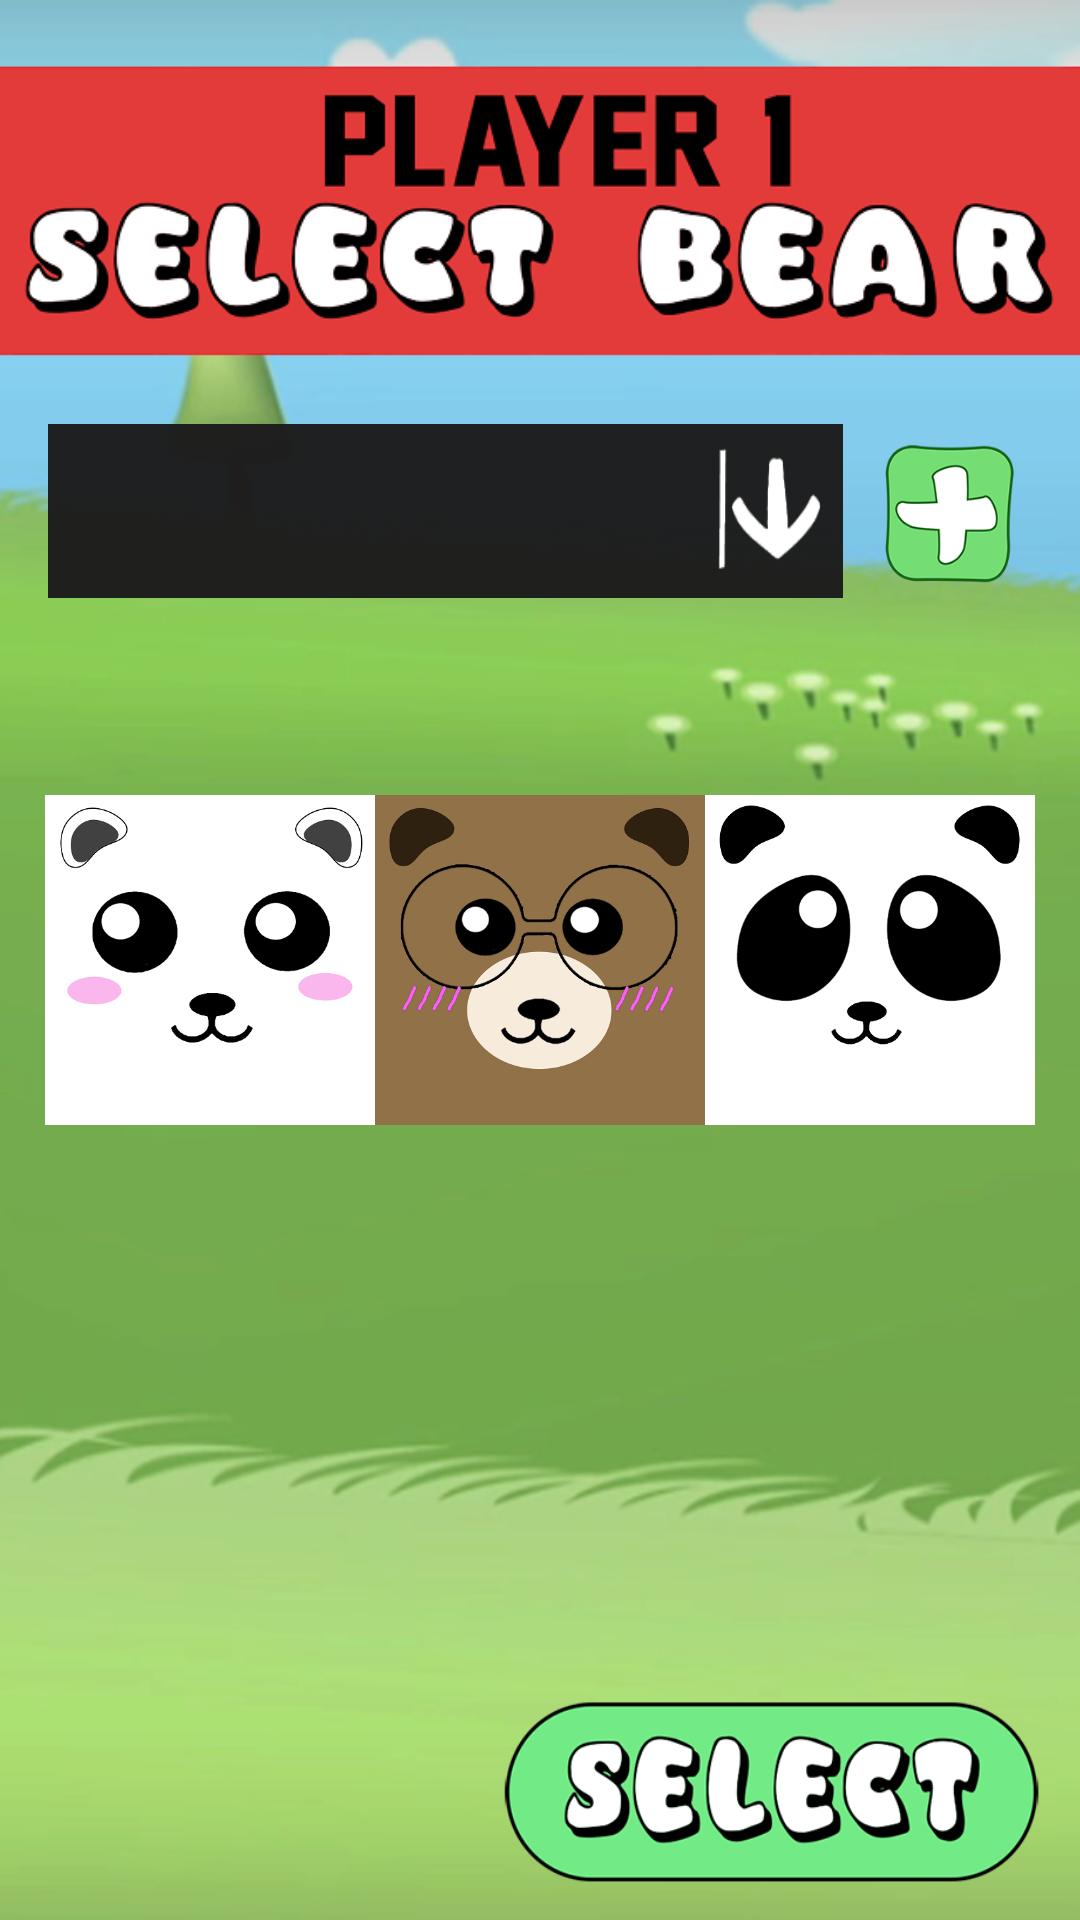

Screen size 1080 x 1920. Icon name, then its box in pixels as (x1, y1, x2, y2):
addbutton: (867, 445, 1032, 598)
